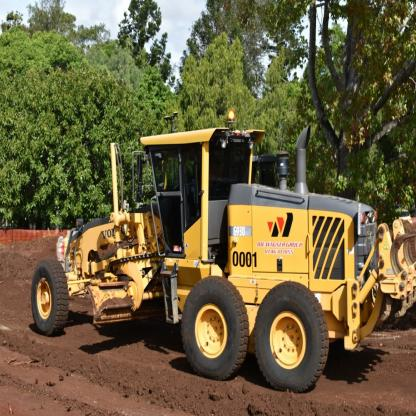bull_dozer/loader/grader: (29, 112, 416, 400)
